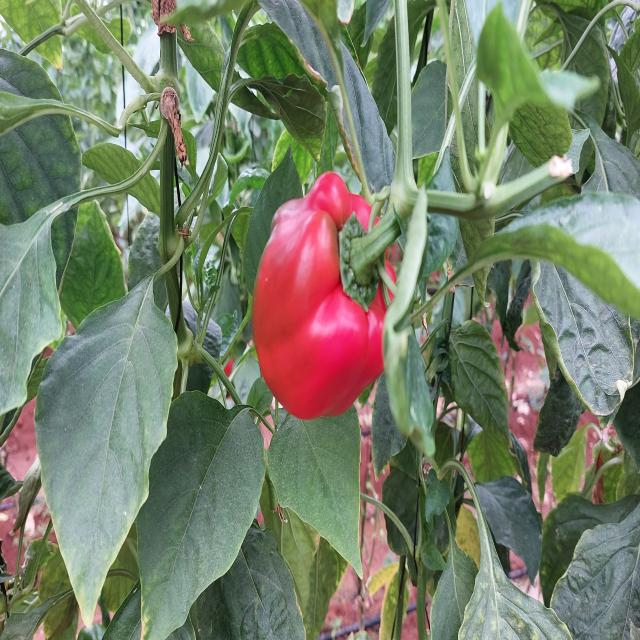Red-Ready-to-Harvest: (248, 167, 392, 430)
